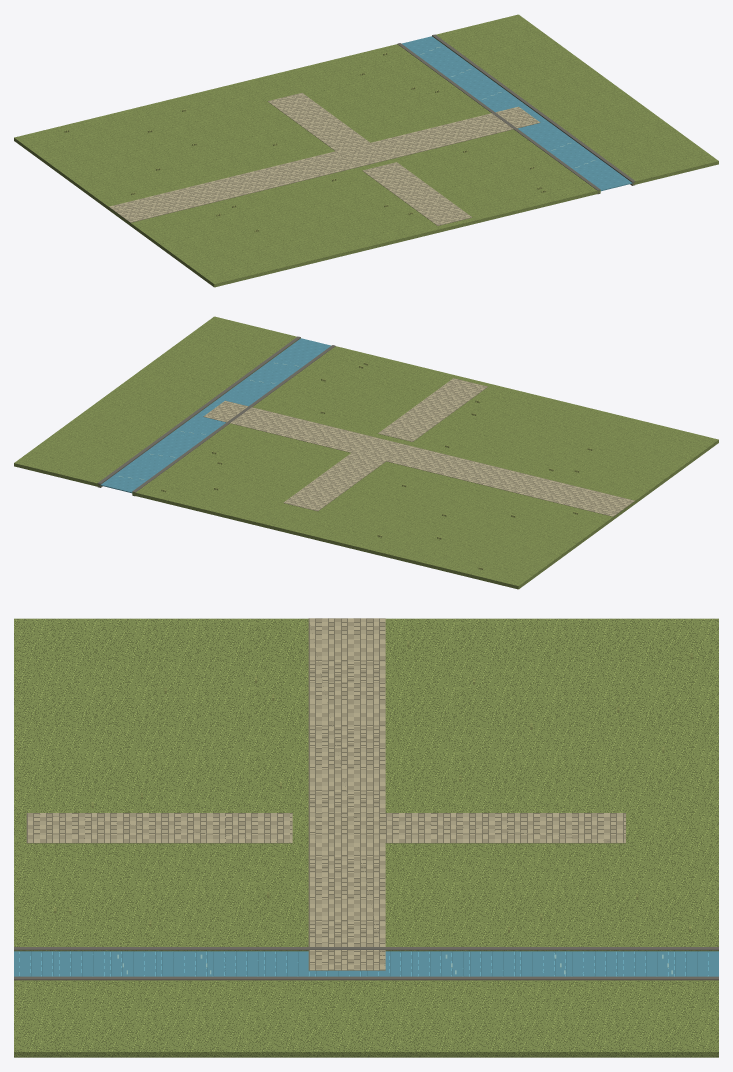
The model's file is landscape.glb.
3 views of the same model, one above another, from view 1: azimuth 30°, elevation 25°; view 2: azimuth 150°, elevation 25°; view 3: azimuth 270°, elevation 25° (orthographic). The views are drawn at different scales.
Visible parts, largest first — view 1: village_landscape; view 2: village_landscape; view 3: village_landscape.
Boxes of the visible parts, box(x1,y1,x2,y2) form: village_landscape: box(14, 14, 718, 287); village_landscape: box(14, 316, 718, 589); village_landscape: box(14, 618, 718, 1057).
Size of the model in its own units: 640 by 6.5 by 440.
Materials: 6 (3 with a texture image).
